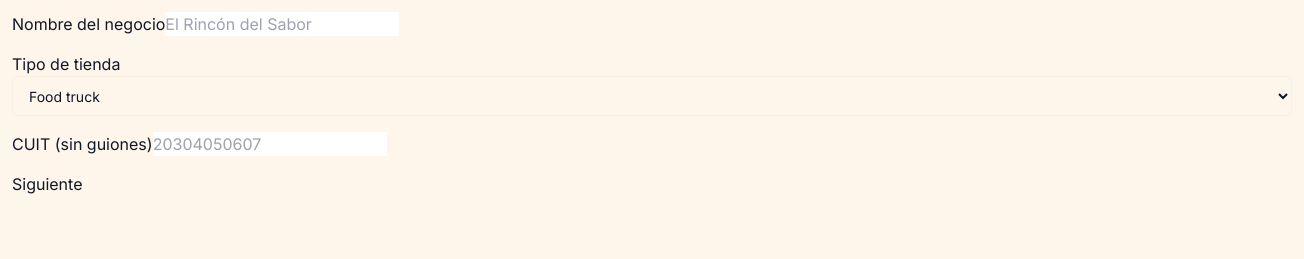
Scenario: StepFiscal › shows validation error for empty businessName
Click the button "Siguiente" at {"x": 47, "y": 184}, box x1=12 y1=172 x2=82 y2=196
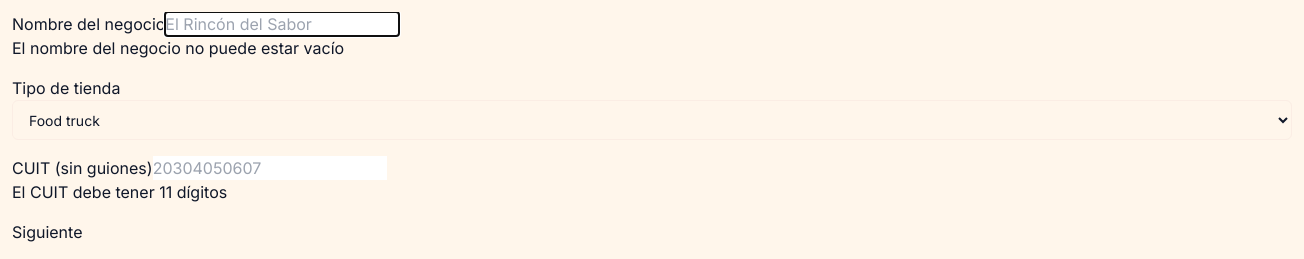
Expected: the text "El nombre del negocio no puede estar vacío" is shown, x1=12 y1=38 x2=344 y2=58
